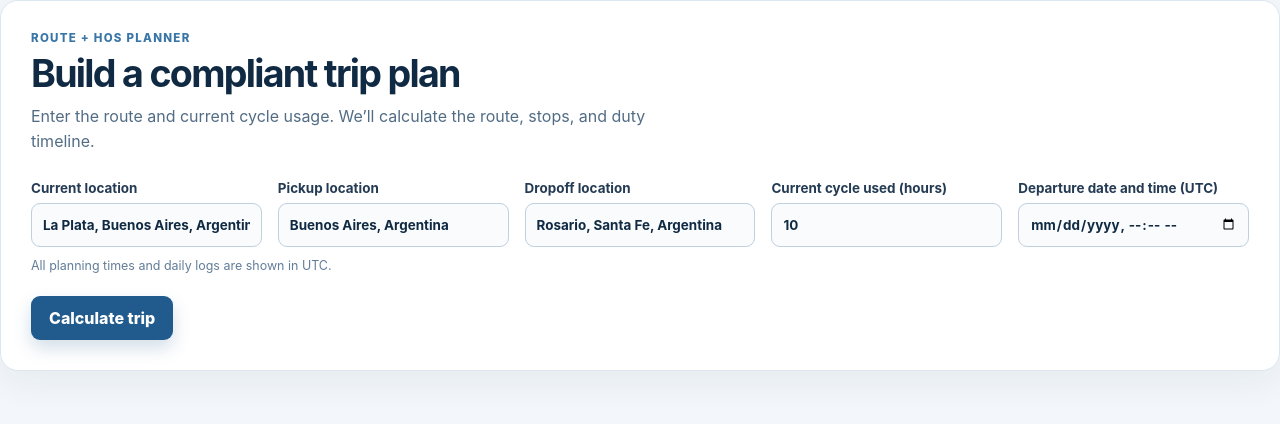
shows client validation errors instead of submitting incomplete form data
Clear the field labelled "Current location" at (146, 225), box 31,203 -> 262,247
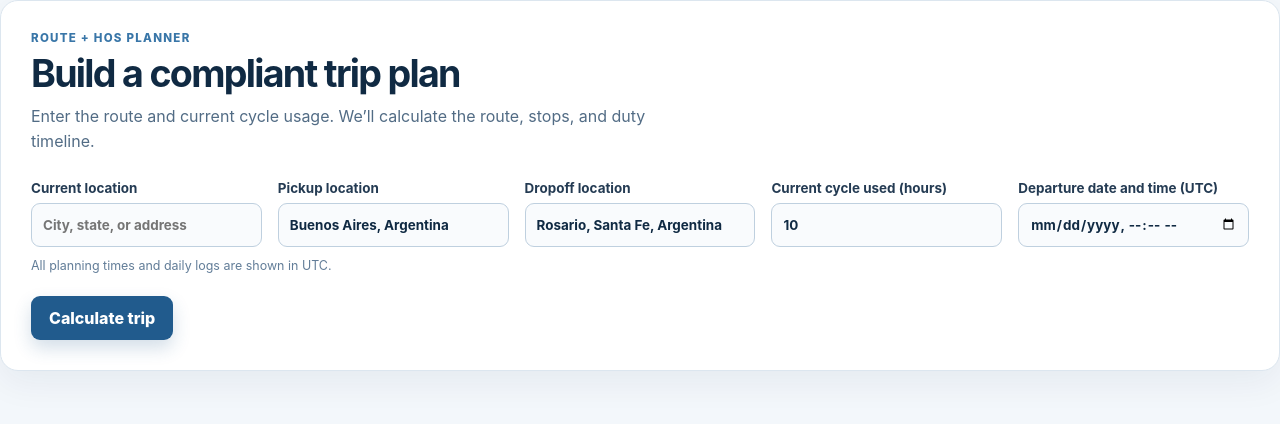
Replace the text in the number field labelled "Current cycle used (hours)" with "72" at (887, 225), box 771,203 -> 1002,247
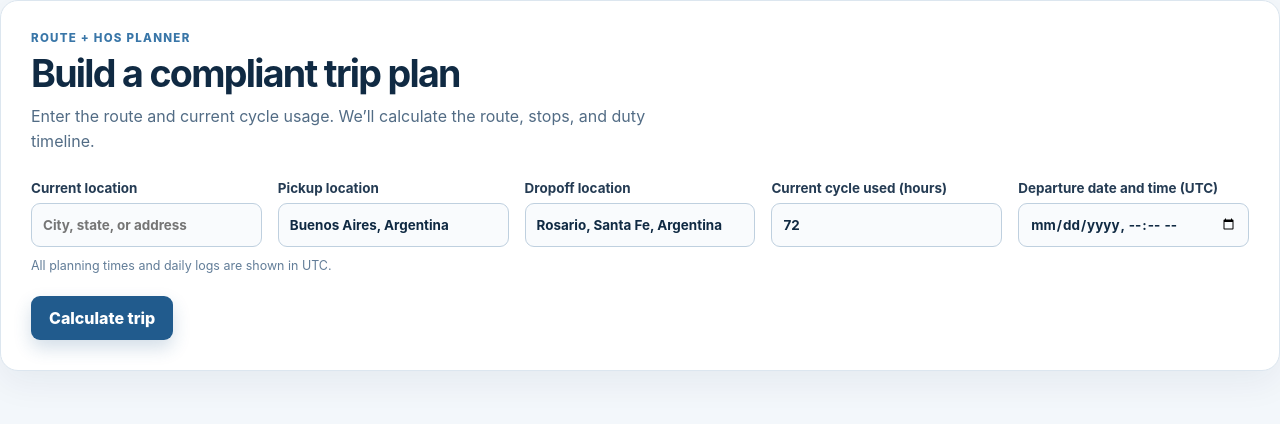
Click the button "Calculate trip".
click(102, 318)  # box 31,296 -> 173,340
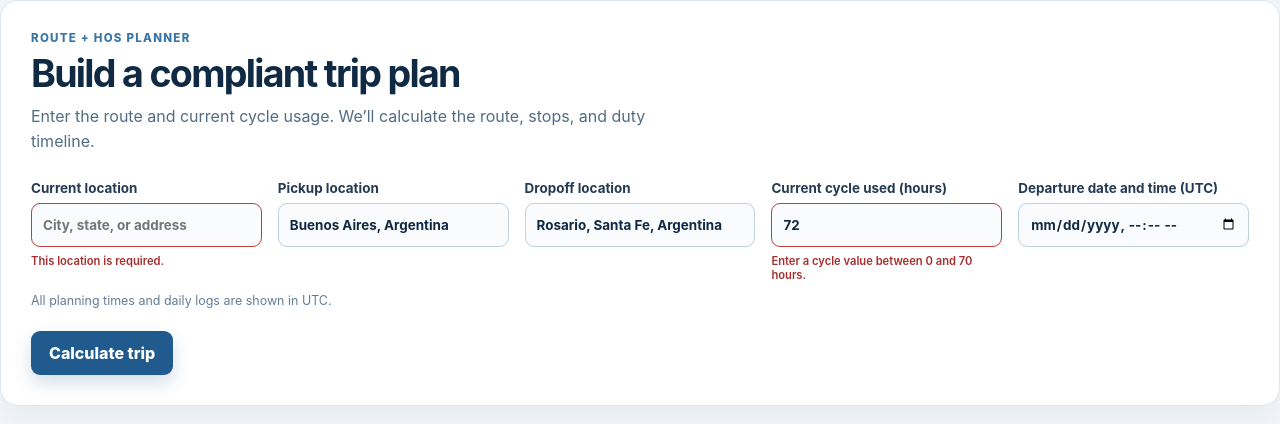
Expected: the text "This location is required." is shown, 31,254 -> 164,268
Expected: the text "Enter a cycle value between 0 and 70 hours." is shown, 771,254 -> 1002,282
